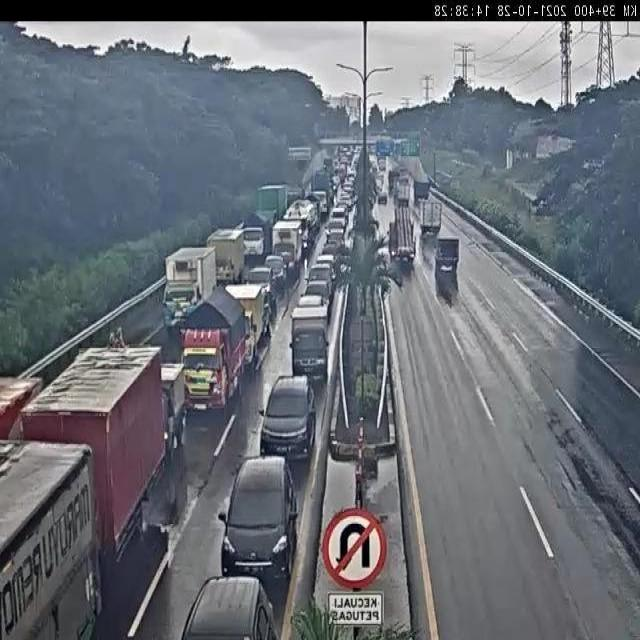Car: (219, 454, 299, 583), (178, 575, 283, 638), (258, 374, 318, 462), (300, 278, 332, 318), (245, 265, 275, 305), (304, 262, 334, 296), (264, 254, 287, 288), (313, 254, 337, 284), (296, 294, 326, 309), (322, 239, 339, 264), (326, 228, 346, 249), (323, 221, 342, 236), (378, 190, 388, 205)
Truck: (16, 345, 169, 573), (0, 440, 101, 638), (177, 286, 251, 414), (163, 245, 219, 340), (224, 282, 267, 371), (289, 300, 330, 383), (0, 370, 46, 440), (160, 358, 187, 456), (205, 229, 248, 286), (240, 209, 276, 261), (271, 220, 303, 278), (388, 206, 415, 267), (284, 199, 317, 245), (252, 183, 288, 225), (435, 238, 459, 292), (311, 170, 333, 213), (418, 201, 442, 236), (285, 188, 304, 215), (396, 178, 410, 208), (414, 179, 429, 203), (387, 170, 400, 193), (322, 156, 334, 175), (398, 166, 409, 182)
